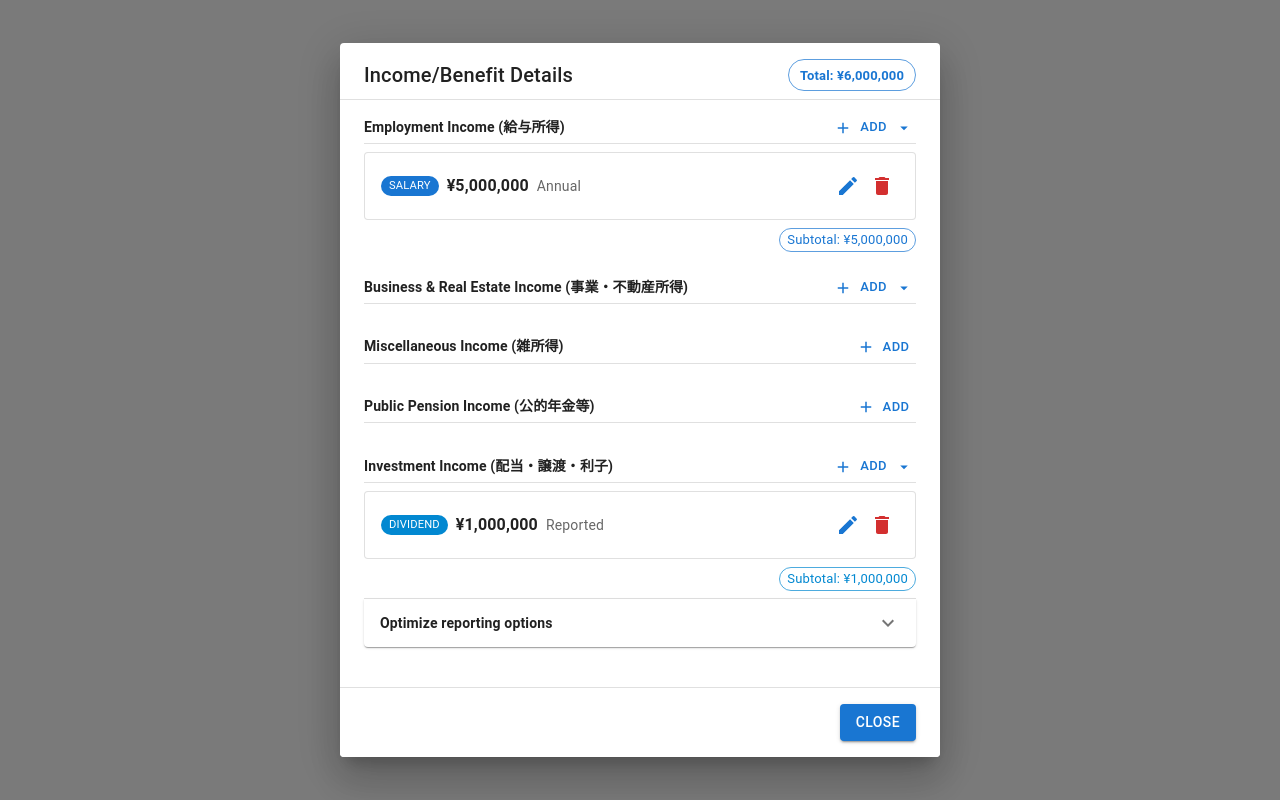
Test: IncomeDetailsModal - Investment Income › offers the reporting planner with calculation inputs and a listed-share entry, computing it on expand
Expected: the text "Current" is not shown
Click the button "Optimize reporting options".
click(466, 623)  # box [364,599,916,647]
(page scrolled)
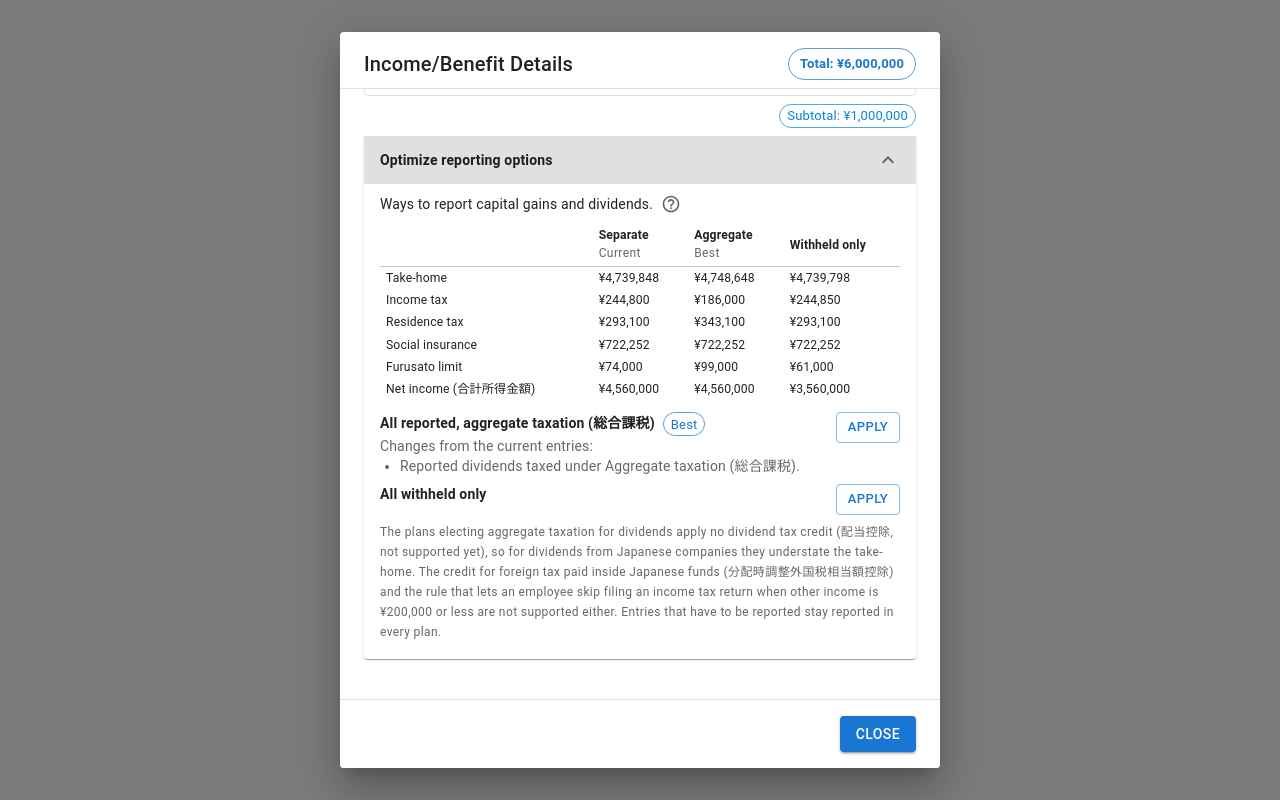
Result: the text "Current" is shown at [599,246,641,260]
Result: the text "Best" below "Separate" is shown at [694,246,720,260]
Result: the text "¥4,739,798" is shown at [784,266,900,289]
